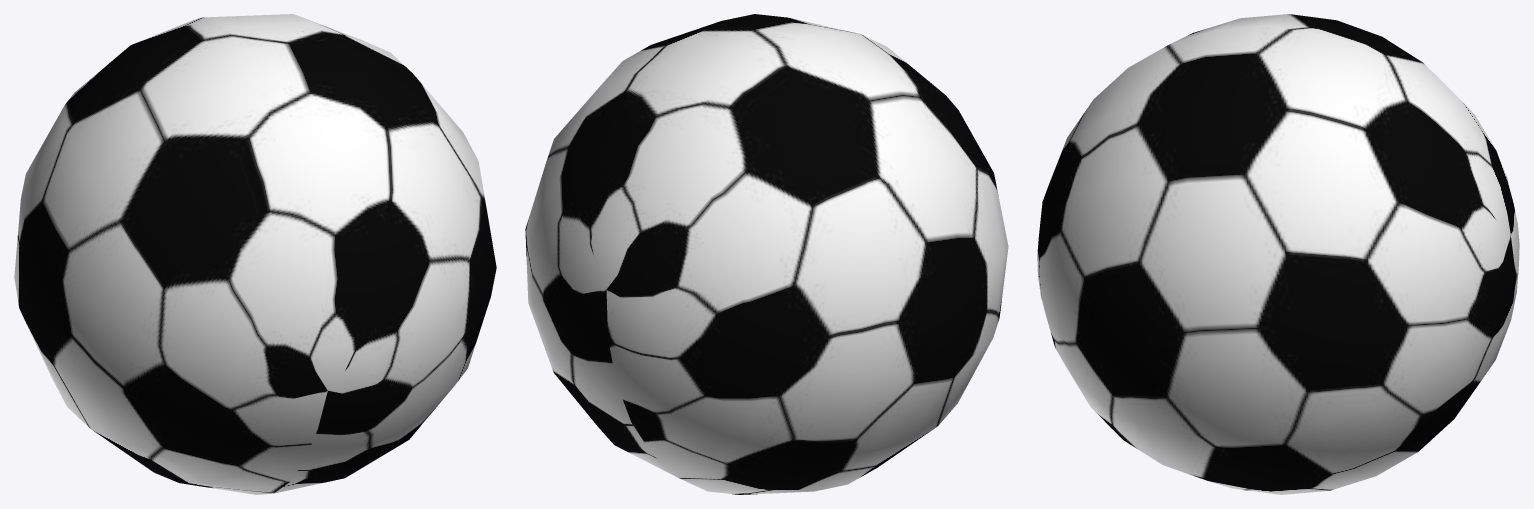
File: football_animation.fbx
The picture shows the model from 3 angles, left to right: view 1: azimuth 30°, elevation 25°; view 2: azimuth 150°, elevation 25°; view 3: azimuth 270°, elevation 25°; orthographic projection.
Parts seen in each view (by area): view 1: football; view 2: football; view 3: football.
Part boxes in pixels (left/top/right/bottom): football: left=14, top=14, right=496, bottom=494; football: left=525, top=14, right=1008, bottom=494; football: left=1037, top=14, right=1519, bottom=494.
Bounding box in the file's own units: 22.4 × 22.5 × 22.63.
Materials: 1 (1 with a texture image).
